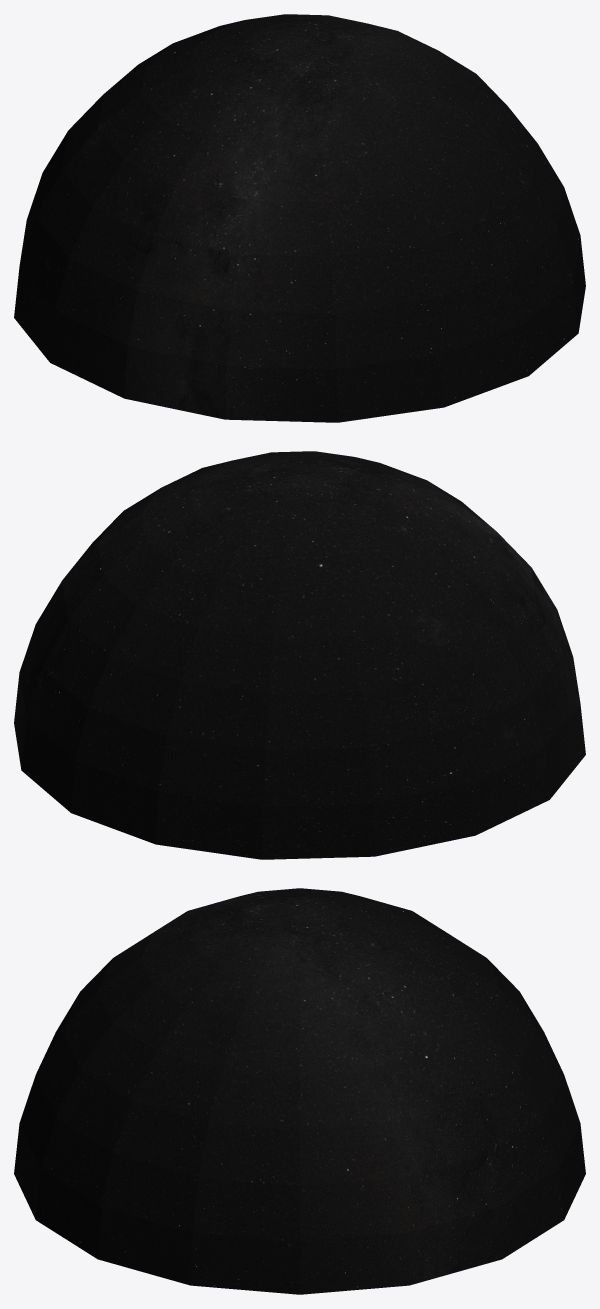
Rendered from Star Dome.fbx.
3 views of the same model, one above another, from view 1: azimuth 30°, elevation 25°; view 2: azimuth 150°, elevation 25°; view 3: azimuth 270°, elevation 25° (orthographic).
Visible parts, largest first — view 1: Sphere; view 2: Sphere; view 3: Sphere.
Boxes of the visible parts, left/top/right/bottom form: Sphere: left=14, top=14, right=585, bottom=422; Sphere: left=14, top=451, right=585, bottom=859; Sphere: left=14, top=888, right=585, bottom=1294.
Size of the model in its own units: 200 by 100 by 200.
1 material, 1 textured.
